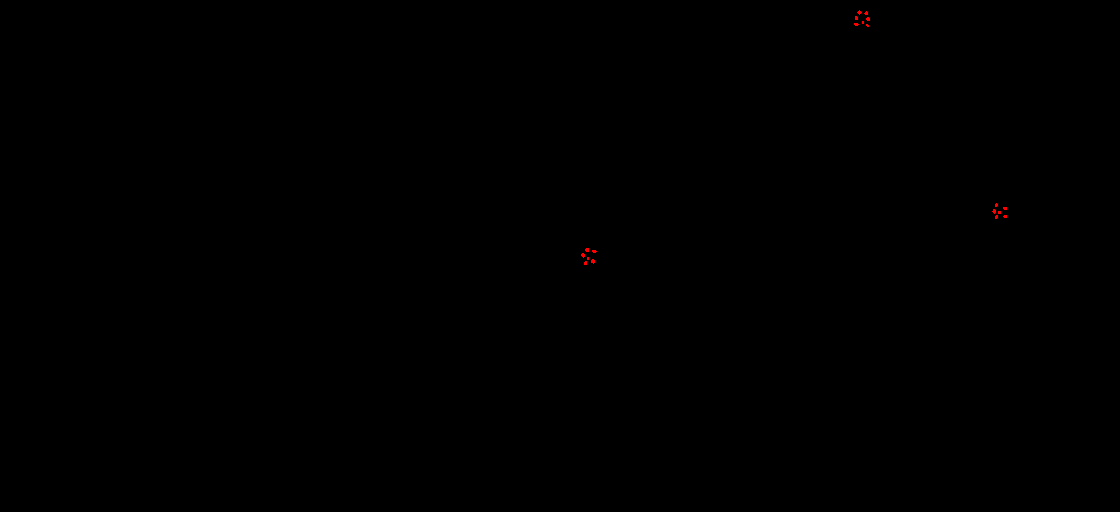Target: (857, 10, 862, 15), (992, 209, 996, 214), (581, 253, 585, 258), (591, 259, 595, 264), (864, 11, 868, 15), (866, 17, 870, 21), (585, 248, 589, 252), (854, 23, 859, 26), (592, 250, 597, 253), (855, 16, 858, 20), (995, 203, 998, 207), (1003, 207, 1007, 210), (995, 215, 998, 219), (1003, 215, 1007, 218), (584, 261, 587, 265), (866, 24, 869, 27), (998, 211, 1001, 214), (862, 21, 864, 24), (587, 257, 589, 260)
